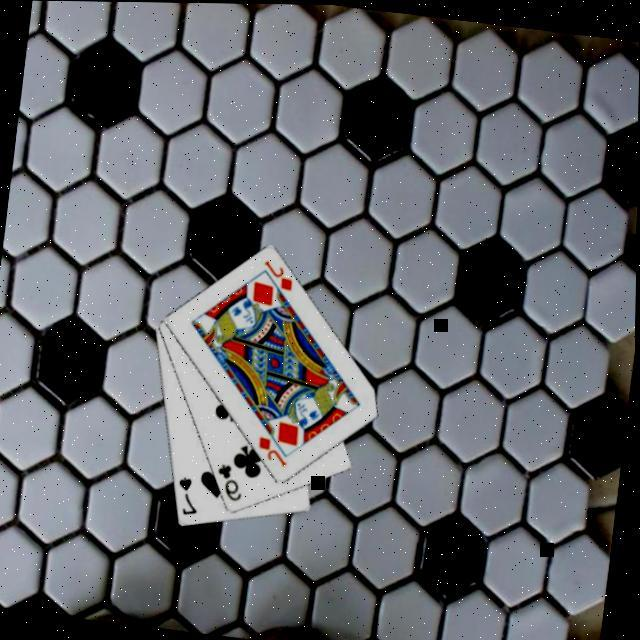6C: (214, 460, 251, 503)
7S: (175, 472, 207, 518)
JD: (260, 255, 300, 293), (256, 431, 295, 469)
